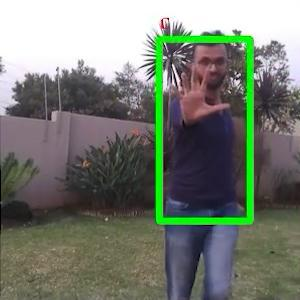follow_hand: (164, 58, 233, 122)
